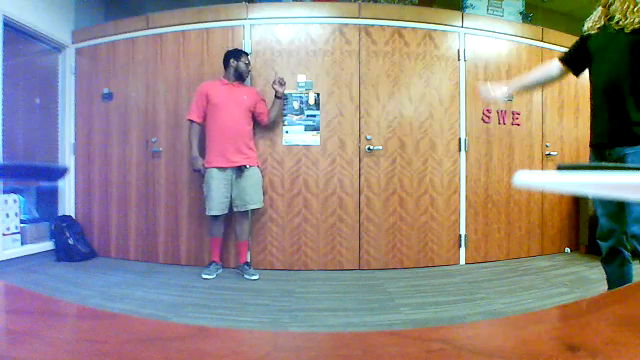up: (271, 65, 287, 97)
